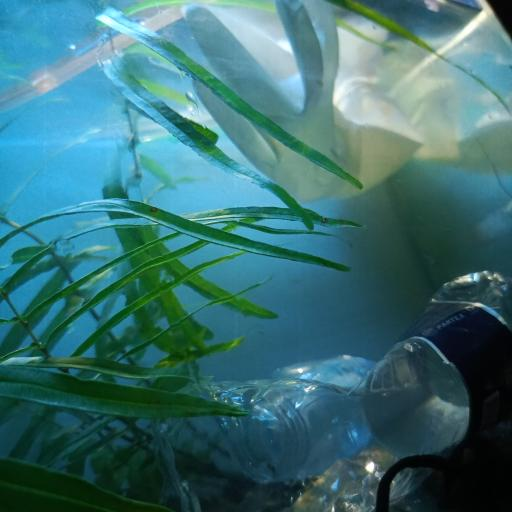glove: (184, 6, 512, 204)
mask: (378, 433, 512, 512)
plastic_bottle: (149, 267, 512, 511), (209, 354, 398, 470)
plastic_straw: (0, 0, 197, 114)
